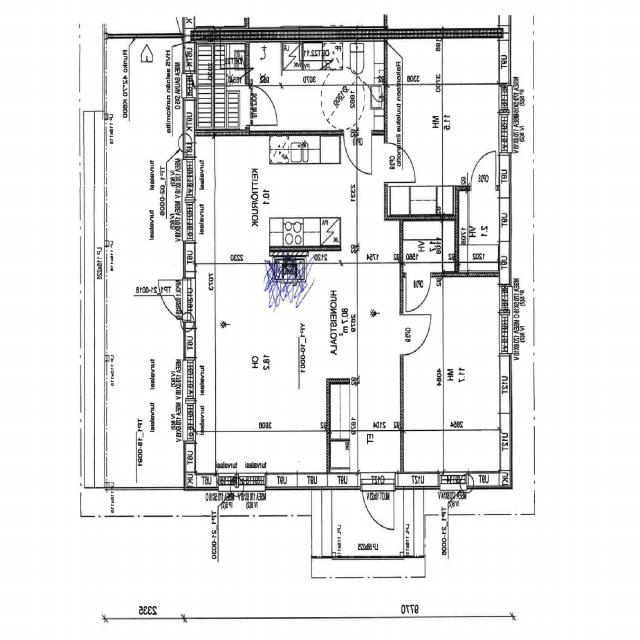door: (362, 473, 394, 537), (154, 280, 195, 320), (245, 84, 279, 126), (344, 129, 372, 175), (400, 314, 432, 354), (384, 142, 416, 182), (471, 150, 496, 191), (407, 272, 431, 312)
